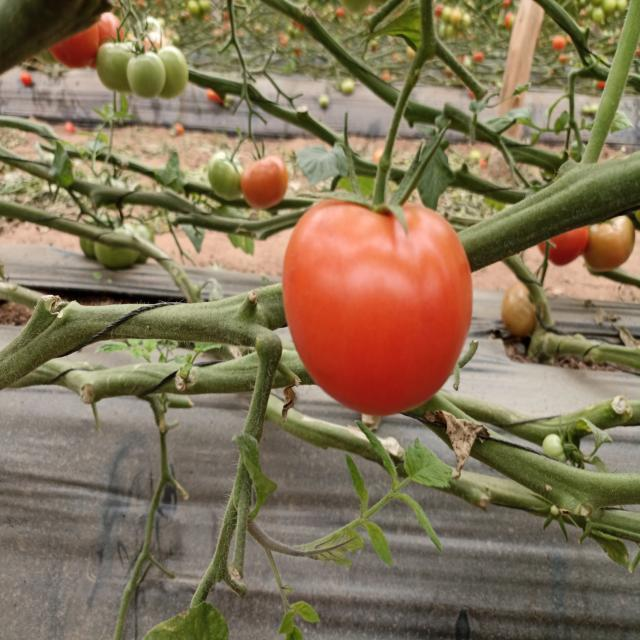Ripe Tomato: (274, 185, 476, 411), (53, 12, 122, 70), (236, 144, 296, 206), (533, 222, 590, 272), (204, 92, 233, 108), (18, 73, 38, 90), (556, 35, 568, 57)
Unripe Tomato: (581, 213, 640, 275), (502, 274, 543, 344), (94, 39, 133, 97), (207, 145, 242, 204), (95, 220, 135, 268), (131, 47, 168, 94), (158, 46, 190, 98), (125, 221, 156, 266), (544, 429, 574, 472), (77, 217, 101, 260), (342, 78, 365, 102)
